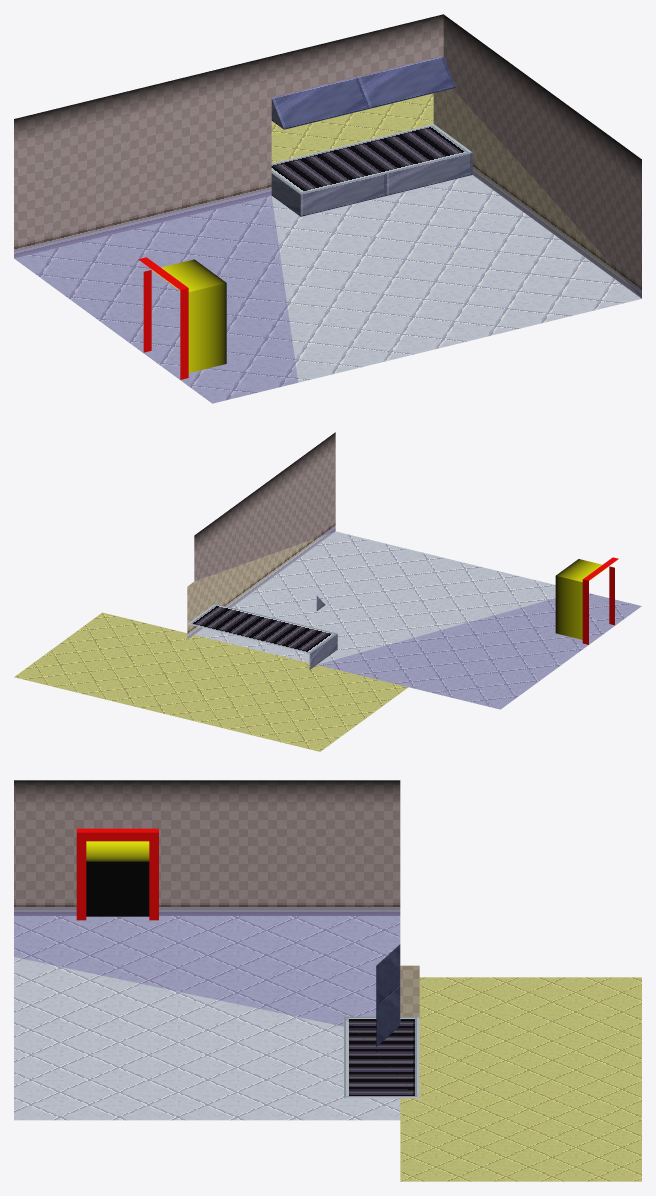
File: Kitchen.glb
The picture shows the model from 3 angles, top to bottom: view 1: azimuth 30°, elevation 25°; view 2: azimuth 150°, elevation 25°; view 3: azimuth 270°, elevation 25°; orthographic projection. The views are drawn at different scales.
Parts seen in each view (by area): view 1: Kitchen; view 2: Kitchen; view 3: Kitchen.
Boxes of the visible parts, x1=… form: Kitchen: x1=14, y1=14, x2=641, y2=403; Kitchen: x1=14, y1=432, x2=641, y2=751; Kitchen: x1=14, y1=780, x2=641, y2=1181.
Size of the model in its own units: 13 by 3.1 by 13.
6 materials, 4 textured.
